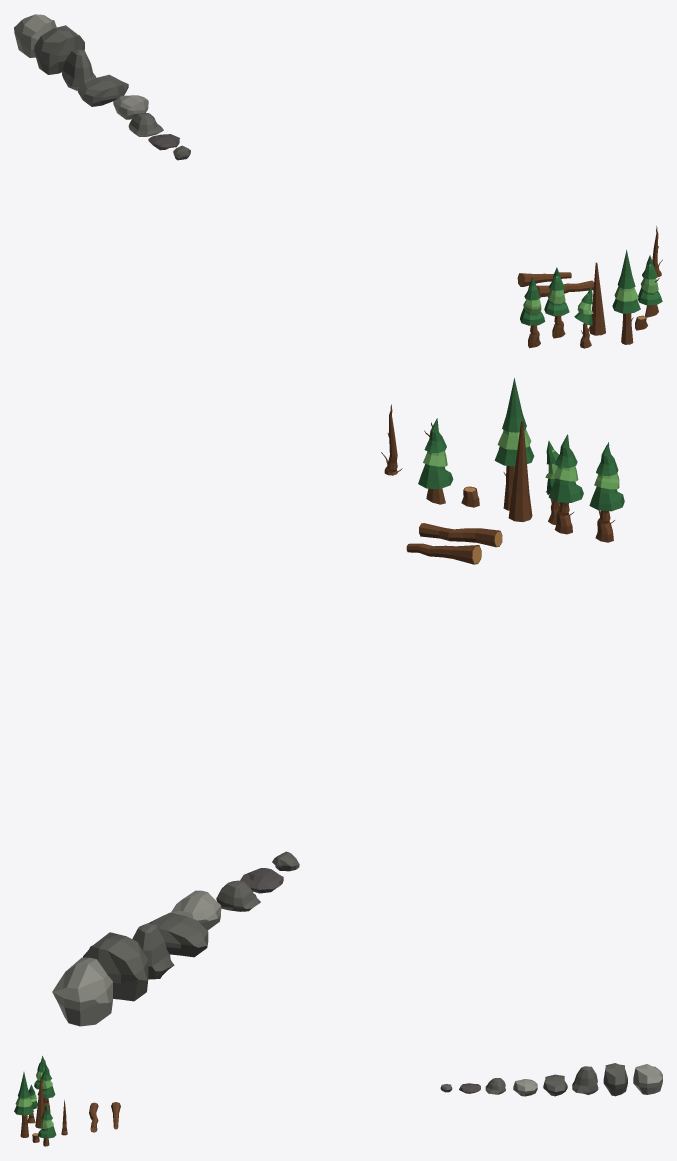
The model's file is StoneRock.fbx.
The picture shows the model from 3 angles, top to bottom: view 1: azimuth 30°, elevation 25°; view 2: azimuth 150°, elevation 25°; view 3: azimuth 270°, elevation 25°; orthographic projection. The views are drawn at different scales.
Visible parts, largest first — view 1: Stone7, Stone5, Tree3, Stone8, Stone6, Tree1.001, Tree1, Tree4, Stone4, Stone3, Tree2; view 2: Stone8, Stone7, Stone5, Tree3, Tree1.001, Tree1, Tree4, Stone6, Stone4, TreeTrunk.002, TreeTrunk.001, Stone3; view 3: Stone8, Stone7, Stone6, Tree3, Stone5, Tree4, Stone4, Tree1, Stone3, TreeTrunk.002, TreeTrunk, Stone2 (+2 smaller).
Part boxes in pixels (x1,y1,x2,y2): Stone7: [34, 25, 84, 74]; Stone5: [77, 74, 128, 106]; Tree3: [612, 250, 640, 326]; Stone8: [14, 14, 56, 57]; Stone6: [62, 49, 96, 90]; Tree1.001: [520, 277, 545, 337]; Tree1: [544, 267, 569, 327]; Tree4: [637, 255, 662, 305]; Stone4: [113, 95, 148, 119]; Stone3: [128, 113, 163, 136]; Tree2: [574, 287, 593, 337]; Stone8: [52, 957, 112, 1026]; Stone7: [83, 932, 148, 1001]; Stone5: [148, 912, 208, 957]; Tree3: [494, 378, 534, 485]; Tree1.001: [589, 442, 624, 526]; Tree1: [548, 434, 583, 518]; Tree4: [418, 418, 453, 489]; Stone6: [132, 923, 174, 979]; Stone4: [171, 890, 221, 930]; TreeTrunk.002: [419, 523, 502, 547]; TreeTrunk.001: [406, 543, 481, 564]; Stone3: [216, 880, 260, 911]; Stone8: [633, 1064, 662, 1094]; Stone7: [603, 1063, 627, 1096]; Stone6: [572, 1066, 598, 1094]; Tree3: [14, 1072, 33, 1125]; Stone5: [543, 1074, 567, 1096]; Tree4: [38, 1103, 56, 1138]; Stone4: [513, 1079, 537, 1096]; Tree1: [37, 1064, 55, 1107]; Stone3: [485, 1078, 505, 1094]; TreeTrunk.002: [89, 1102, 98, 1132]; TreeTrunk: [37, 1077, 44, 1115]; Stone2: [459, 1083, 480, 1093].
Size of the model in its own units: 83.29 by 34.45 by 296.
